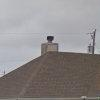Chimney: (34, 28, 63, 63)
